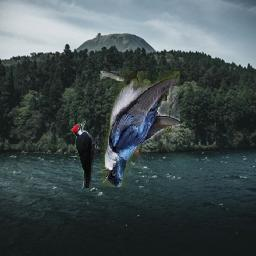Swallow: (100, 71, 180, 187)
Woodpecker: (71, 120, 100, 188)
